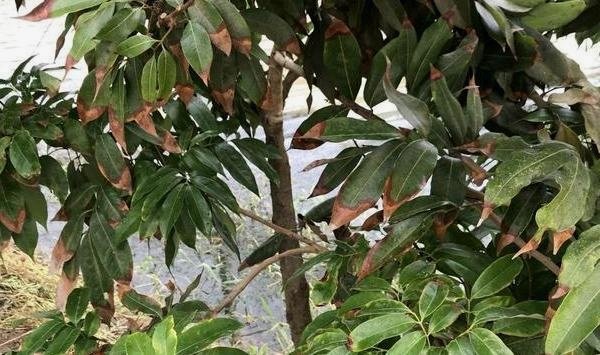Anthracnose: (70, 62, 160, 152), (203, 12, 299, 95), (325, 159, 408, 249), (323, 3, 397, 66), (450, 137, 506, 219), (46, 235, 114, 295), (79, 160, 154, 214), (527, 219, 575, 265), (5, 179, 37, 243), (292, 107, 313, 143)
